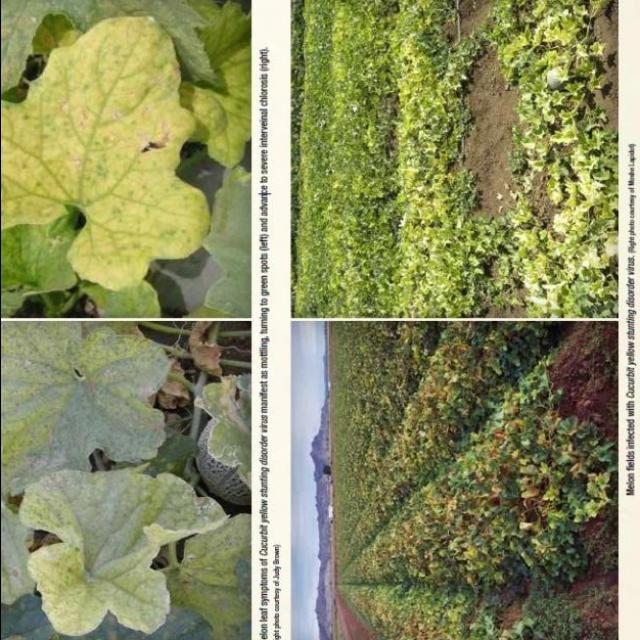Whitefly: (0, 11, 208, 286), (16, 471, 220, 638)
